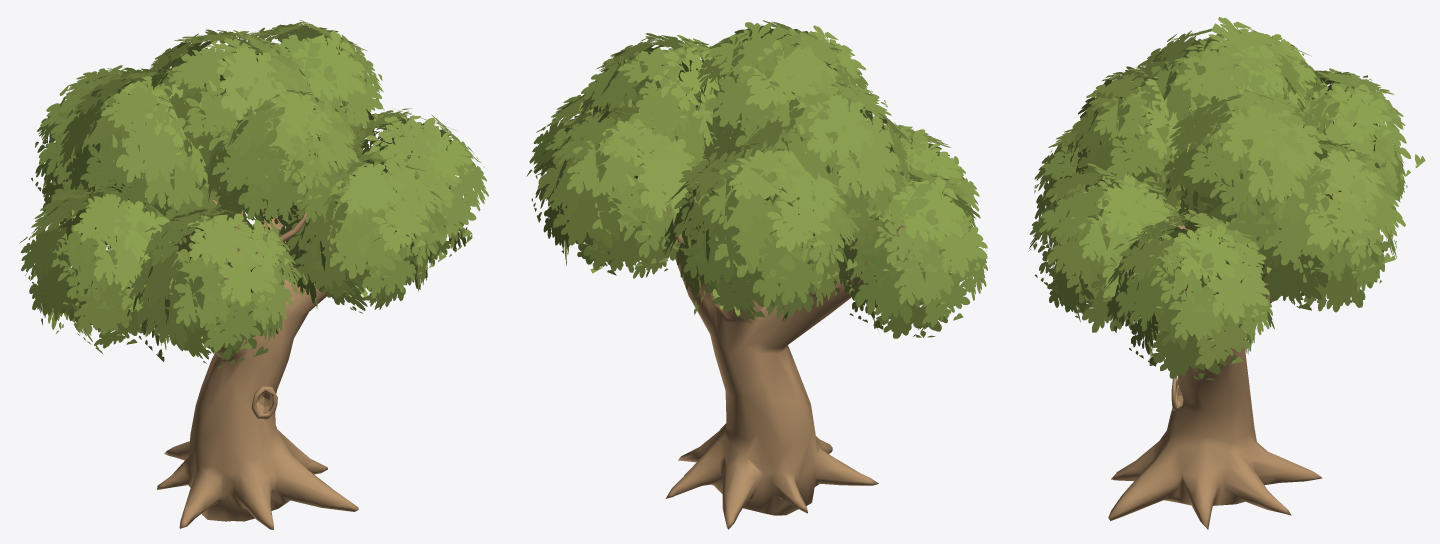
File: oak_LOD2.fbx
3 views of the same model, side by side, from view 1: azimuth 30°, elevation 25°; view 2: azimuth 150°, elevation 25°; view 3: azimuth 270°, elevation 25° (orthographic). The views are drawn at different scales.
Parts seen in each view (by area): view 1: Leaves_LOD2, Trunk_LOD2; view 2: Leaves_LOD2, Trunk_LOD2; view 3: Leaves_LOD2, Trunk_LOD2.
Part boxes in pixels (x1,y1,x2,y2): Leaves_LOD2: (19,20,488,368); Trunk_LOD2: (126,130,358,529); Leaves_LOD2: (526,20,987,338); Trunk_LOD2: (611,187,906,529); Leaves_LOD2: (1028,17,1425,379); Trunk_LOD2: (1108,193,1335,529).
Size of the model in its own units: 733 by 740 by 578.
